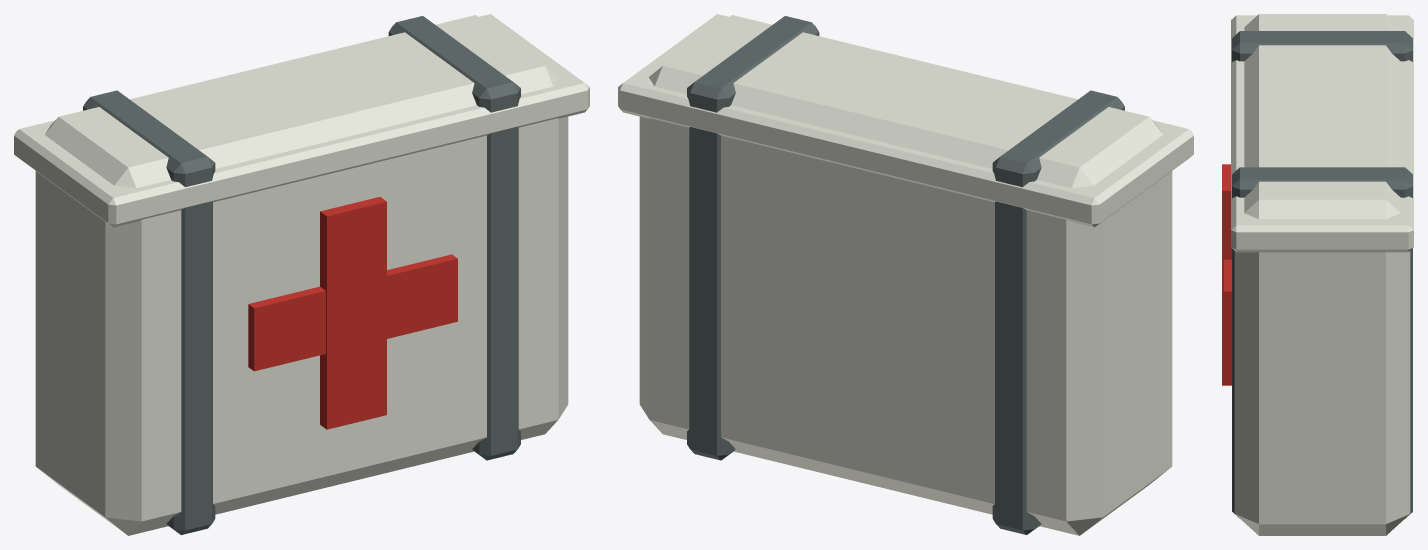
The model's file is medkit.glb.
The picture shows the model from 3 angles, left to right: view 1: azimuth 30°, elevation 25°; view 2: azimuth 150°, elevation 25°; view 3: azimuth 270°, elevation 25°; orthographic projection. The views are drawn at different scales.
Parts seen in each view (by area): view 1: medkit; view 2: medkit; view 3: medkit.
Part boxes in pixels (box(x1,y1,x2,y2)): medkit: box(14, 14, 589, 535); medkit: box(618, 14, 1193, 535); medkit: box(1222, 14, 1413, 535).
Size of the model in its own units: 0.52 by 0.3838 by 0.1965.
